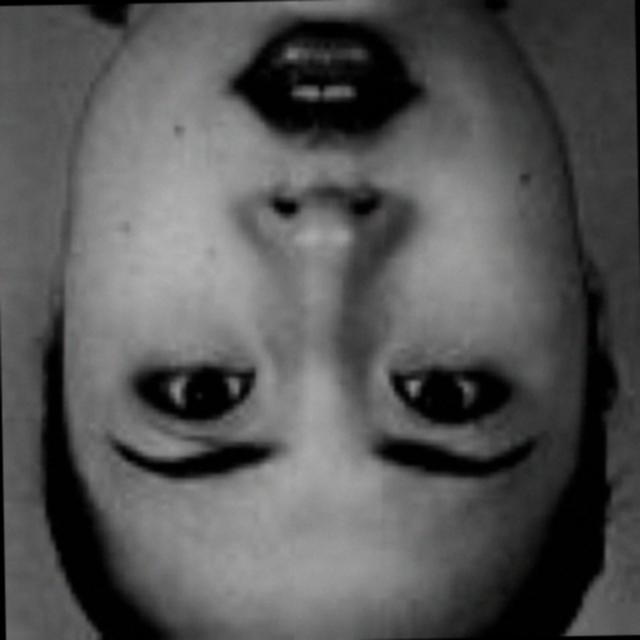fear: (80, 11, 562, 606)
